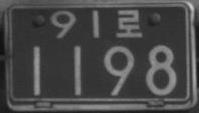1: (61, 45, 92, 95), (22, 46, 51, 96), (83, 10, 108, 38)
8: (145, 43, 177, 96)
9: (104, 44, 135, 96), (50, 9, 76, 39)
로: (115, 8, 142, 38)
